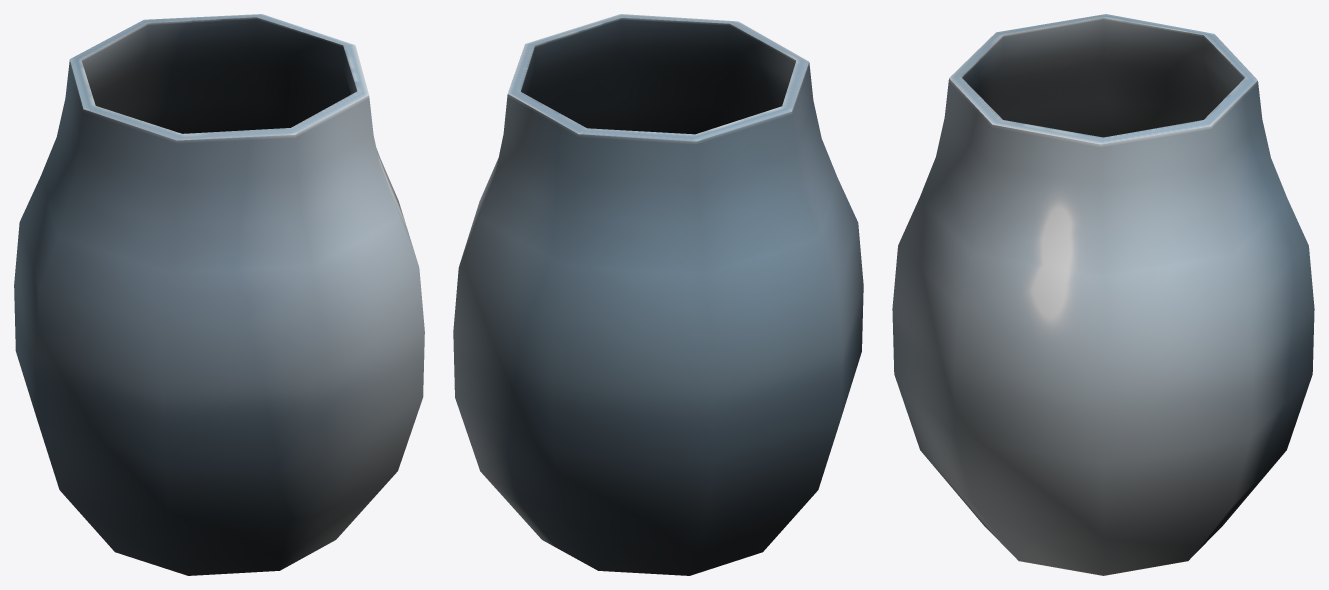
File: Cocktailglass_empty.glb
3 views of the same model, side by side, from view 1: azimuth 30°, elevation 25°; view 2: azimuth 150°, elevation 25°; view 3: azimuth 270°, elevation 25° (orthographic).
Parts seen in each view (by area): view 1: CocktailGlass; view 2: CocktailGlass; view 3: CocktailGlass.
Boxes of the visible parts, box(x1,y1,x2,y2) form: CocktailGlass: box(14, 14, 424, 575); CocktailGlass: box(453, 14, 863, 575); CocktailGlass: box(892, 14, 1314, 575).
Bounding box in the file's own units: 0.0606 × 0.071 × 0.0606.
Materials: 1 (1 with a texture image).
